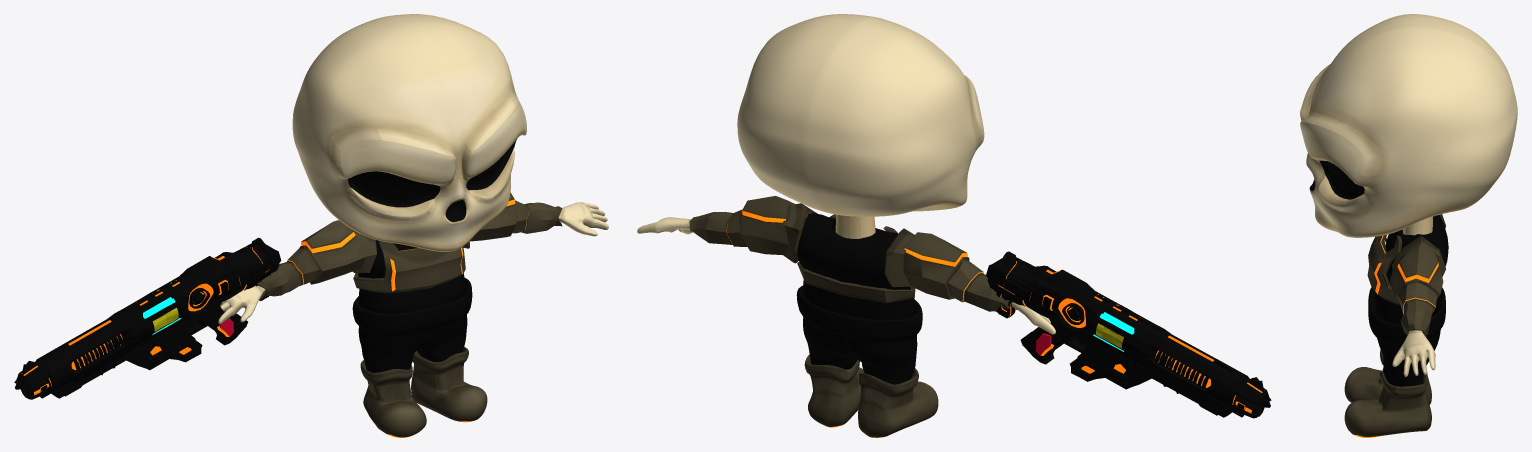
File: andar con arma.fbx
The picture shows the model from 3 angles, left to right: view 1: azimuth 30°, elevation 25°; view 2: azimuth 150°, elevation 25°; view 3: azimuth 270°, elevation 25°; orthographic projection. The views are drawn at different scales.
Visible parts, largest first — view 1: cabeza3, arma, bota, polySurface4, pantalon, polySurface3.001, polySurface5.001, polySurface5; view 2: cabeza3, arma, polySurface4, polySurface5.001, bota, pantalon, polySurface3.001, polySurface5; view 3: cabeza3, bota, polySurface4, pantalon, polySurface5.001, polySurface3.001, polySurface5.
Part boxes in pixels (<box>): cabeza3: <box>292,14,526,251</box>; arma: <box>14,237,281,399</box>; bota: <box>360,346,487,437</box>; polySurface4: <box>257,193,562,299</box>; pantalon: <box>352,278,472,372</box>; polySurface3.001: <box>353,241,465,293</box>; polySurface5.001: <box>358,240,465,313</box>; polySurface5: <box>218,202,608,324</box>; cabeza3: <box>737,14,984,238</box>; arma: <box>986,251,1271,418</box>; polySurface4: <box>689,196,1016,311</box>; polySurface5.001: <box>797,213,915,319</box>; bota: <box>804,354,938,437</box>; pantalon: <box>796,285,922,384</box>; polySurface3.001: <box>797,214,915,303</box>; polySurface5: <box>637,217,1055,334</box>; cabeza3: <box>1300,14,1517,237</box>; bota: <box>1344,349,1431,437</box>; polySurface4: <box>1389,214,1445,337</box>; pantalon: <box>1368,287,1445,386</box>; polySurface5.001: <box>1374,215,1448,324</box>; polySurface3.001: <box>1367,235,1402,304</box>; polySurface5: <box>1392,330,1435,376</box>.
Bounding box in the file's own units: 161 × 101 × 50.76.
Materials: 13 (7 with a texture image).
